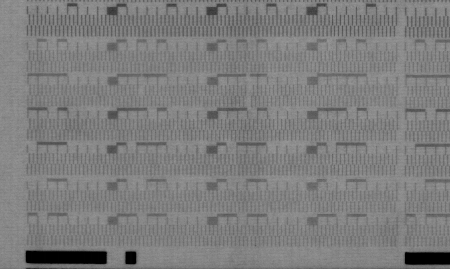Broken hole: (242, 85, 255, 108), (136, 84, 148, 95)
